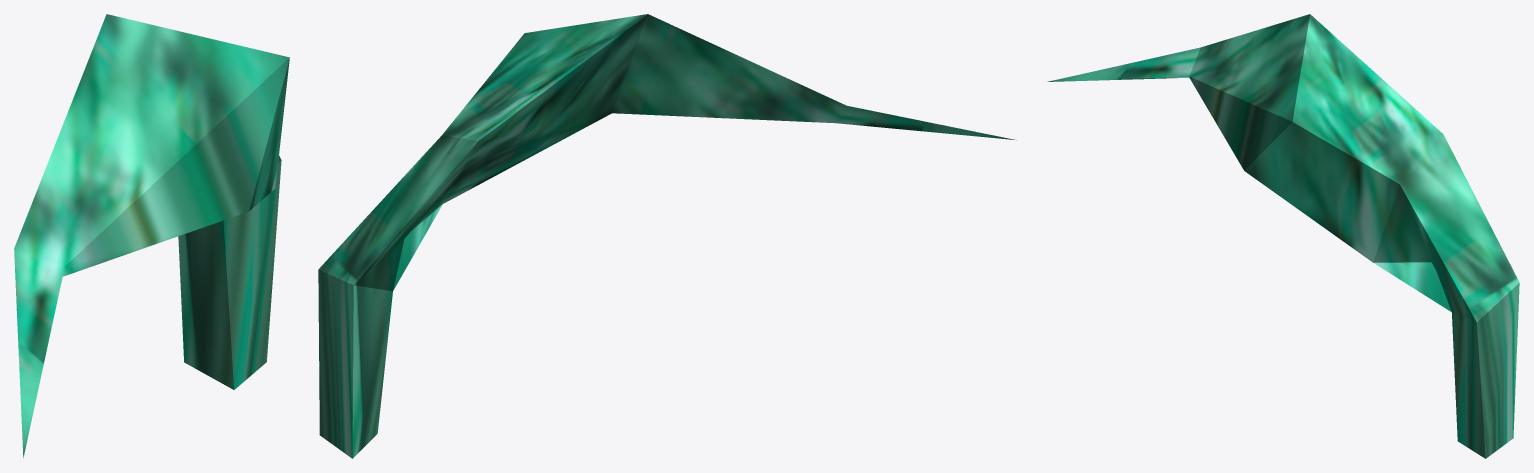
The model's file is H1_BluePlant_Branch_13.gltf.
The picture shows the model from 3 angles, left to right: view 1: azimuth 30°, elevation 25°; view 2: azimuth 150°, elevation 25°; view 3: azimuth 270°, elevation 25°; orthographic projection. The views are drawn at different scales.
Parts seen in each view (by area): view 1: H1_BluePlant_Branch_13; view 2: H1_BluePlant_Branch_13; view 3: H1_BluePlant_Branch_13.
Part boxes in pixels (x1=…): H1_BluePlant_Branch_13: x1=14, y1=14, x2=289, y2=457; H1_BluePlant_Branch_13: x1=318, y1=14, x2=1016, y2=458; H1_BluePlant_Branch_13: x1=1047, y1=14, x2=1519, y2=458.
Size of the model in its own units: 2.82 by 2.41 by 2.96.
Materials: 1 (1 with a texture image).
